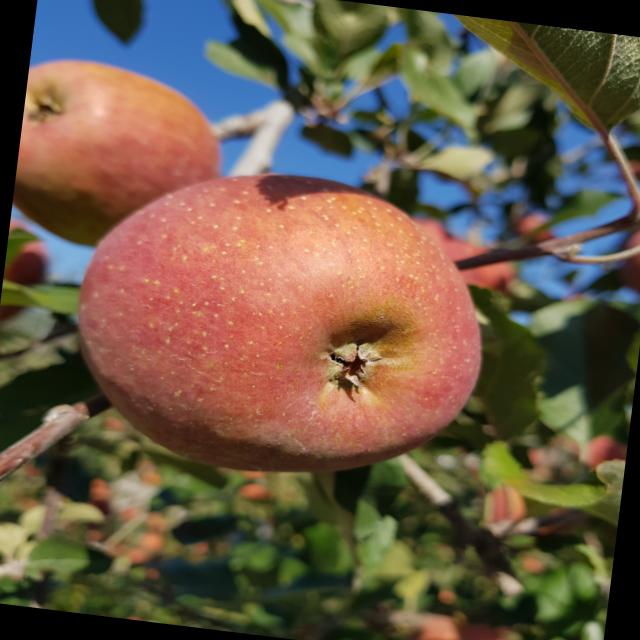fresh: (50, 140, 516, 506)
